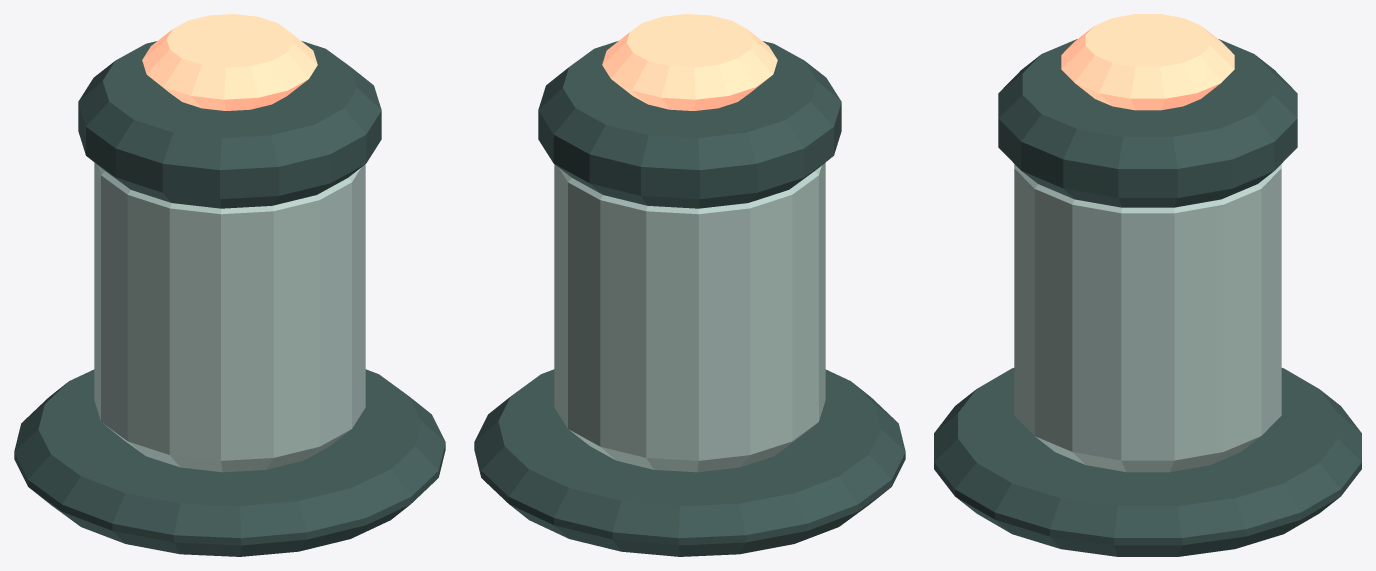
The model's file is Laser_Up.gltf.
3 views of the same model, side by side, from view 1: azimuth 30°, elevation 25°; view 2: azimuth 150°, elevation 25°; view 3: azimuth 270°, elevation 25° (orthographic).
Parts seen in each view (by area): view 1: Laser_Up_baked; view 2: Laser_Up_baked; view 3: Laser_Up_baked.
Part boxes in pixels (bbox=[...]): Laser_Up_baked: bbox=[14, 14, 445, 556]; Laser_Up_baked: bbox=[474, 14, 905, 556]; Laser_Up_baked: bbox=[934, 14, 1361, 556].
Bounding box in the file's own units: 0.5334 × 0.6 × 0.5334.
